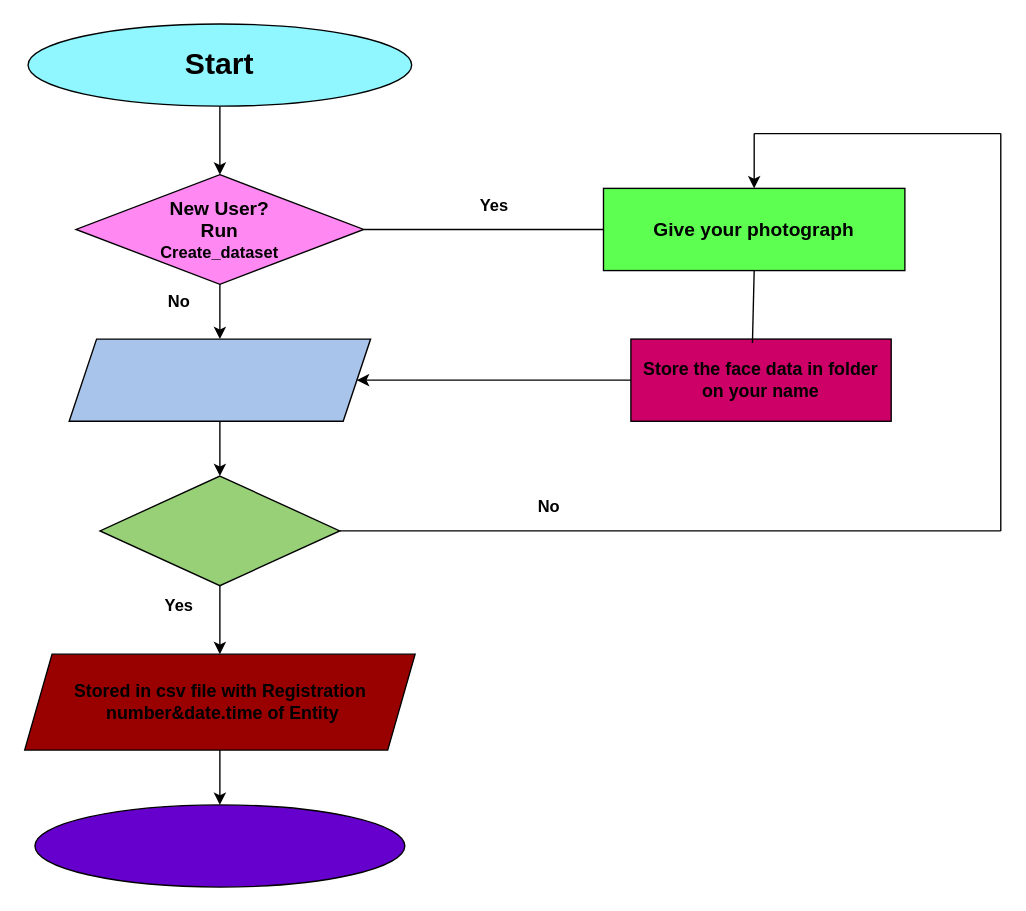
Image size: 1026x911. Some labels were removed from this diagram. The centre of each missing label's shape, as x and y in pixels:
"End" goes at pixel 219 845.
"Face Recognized" goes at pixel 219 530.
"Recognise the face Run Face Recognization.Py" goes at pixel 219 379.
